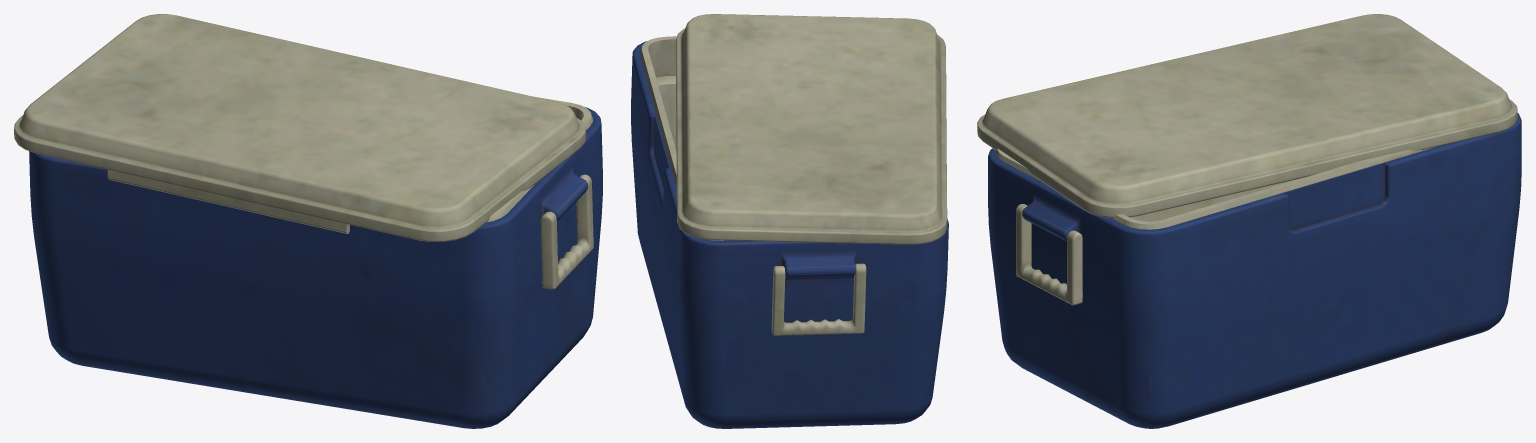
Rendered from ItemSpot.fbx.
3 renders of one model, left to right at view 1: azimuth 30°, elevation 25°; view 2: azimuth 150°, elevation 25°; view 3: azimuth 270°, elevation 25°, orthographic. The views are drawn at different scales.
Visible parts, largest first — view 1: ItemBox_IceBox; view 2: ItemBox_IceBox; view 3: ItemBox_IceBox.
Part boxes in pixels (x1,y1,x2,y2): ItemBox_IceBox: (14,14,602,428); ItemBox_IceBox: (631,14,948,428); ItemBox_IceBox: (977,14,1521,428).
Bounding box in the file's own units: 1 × 0.5466 × 1.09.
1 material, 1 textured.
